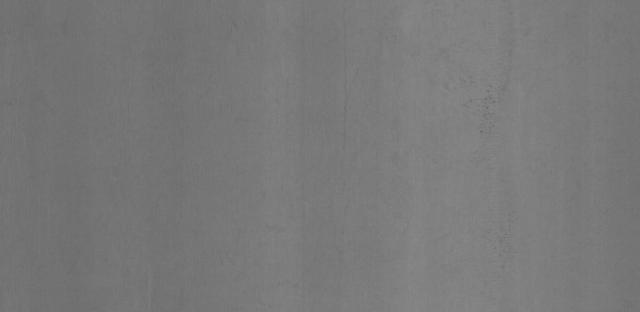inclusion: (464, 68, 514, 140)
